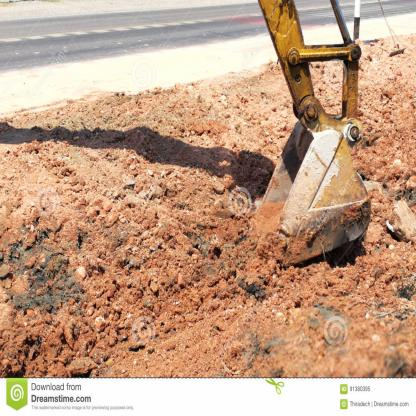excavator: (228, 0, 382, 265)
